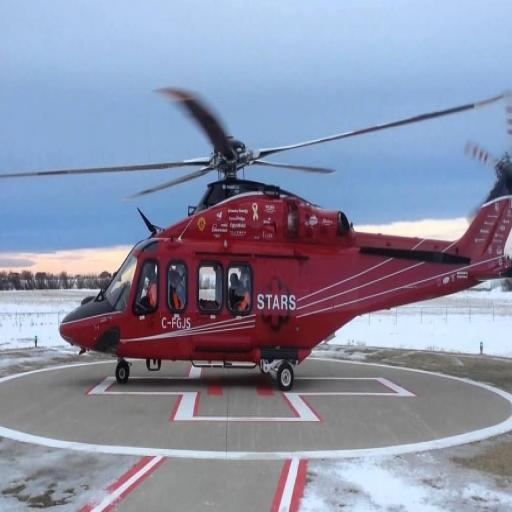helicopter: (51, 80, 512, 399)
